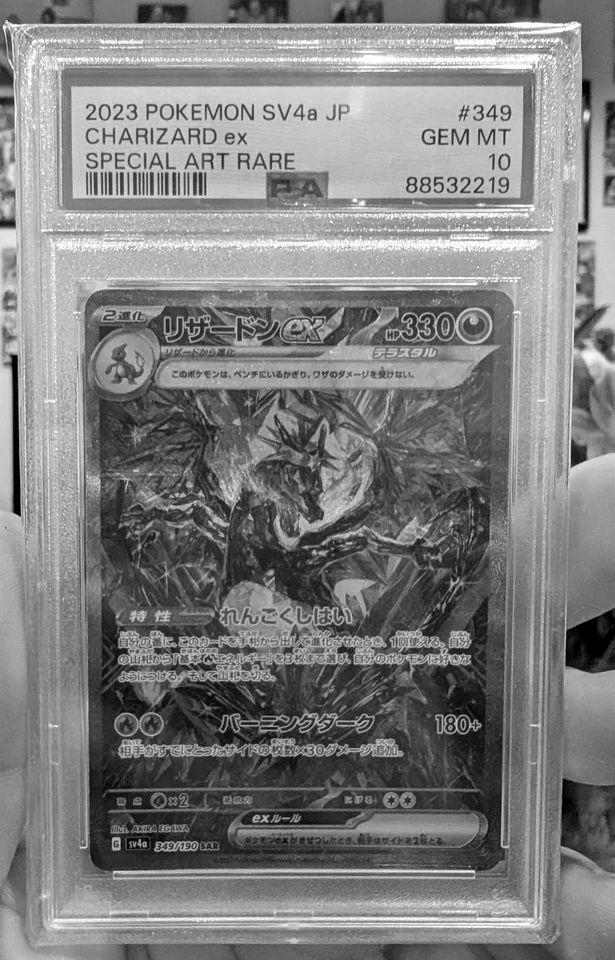card: (85, 289, 515, 871)
